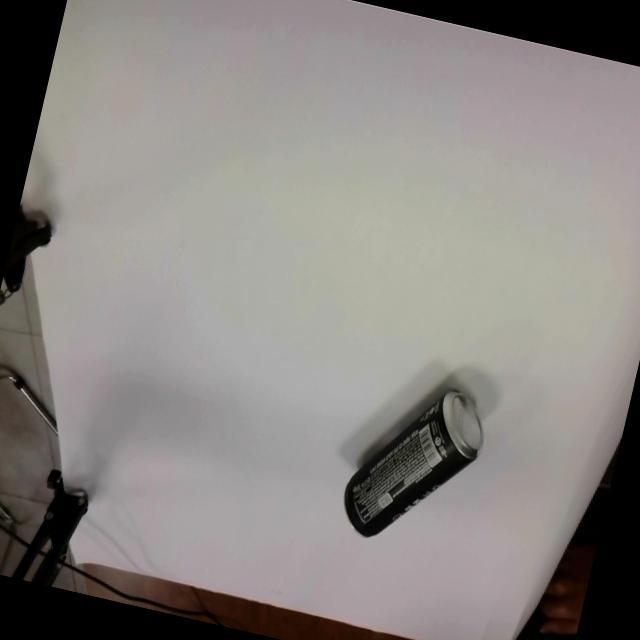debris: (334, 370, 492, 558)
